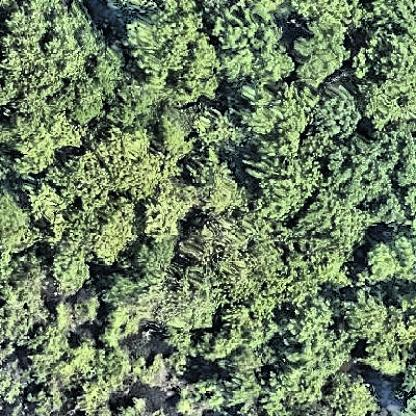tree-top: (29, 135, 189, 262), (1, 3, 118, 125), (108, 257, 229, 341), (124, 6, 220, 105), (278, 205, 360, 309), (193, 312, 272, 408), (277, 306, 346, 409), (205, 11, 293, 86), (242, 80, 315, 163), (194, 223, 272, 300), (353, 24, 416, 114), (327, 131, 396, 210), (254, 155, 326, 225), (55, 348, 128, 416), (287, 16, 347, 88), (191, 156, 243, 225), (1, 265, 47, 341), (361, 226, 416, 283), (1, 184, 35, 259), (307, 91, 364, 134)
